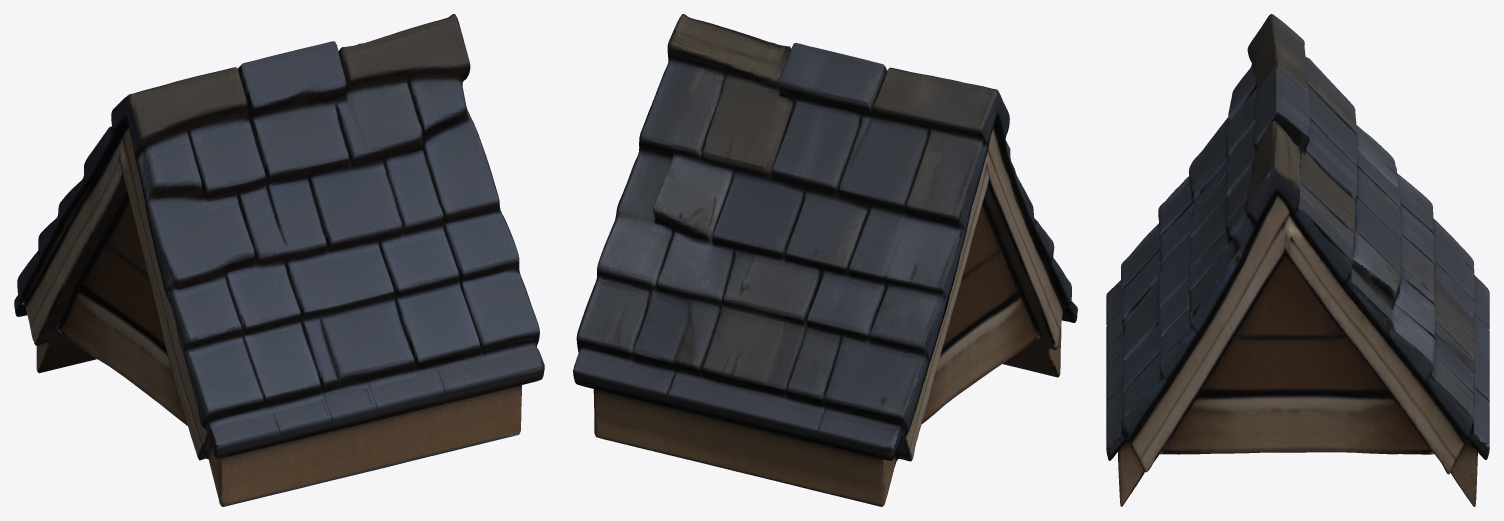
Rendered from debris-roof.glb.
The picture shows the model from 3 angles, left to right: view 1: azimuth 30°, elevation 25°; view 2: azimuth 150°, elevation 25°; view 3: azimuth 270°, elevation 25°; orthographic projection. The views are drawn at different scales.
Parts seen in each view (by area): view 1: tmp28nfoka5.ply; view 2: tmp28nfoka5.ply; view 3: tmp28nfoka5.ply.
Boxes of the visible parts, x1=… form: tmp28nfoka5.ply: x1=14, y1=14, x2=544, y2=506; tmp28nfoka5.ply: x1=573, y1=14, x2=1077, y2=506; tmp28nfoka5.ply: x1=1106, y1=14, x2=1489, y2=506.
Bounding box in the file's own units: 1 × 1 × 1.
1 material, 1 textured.
